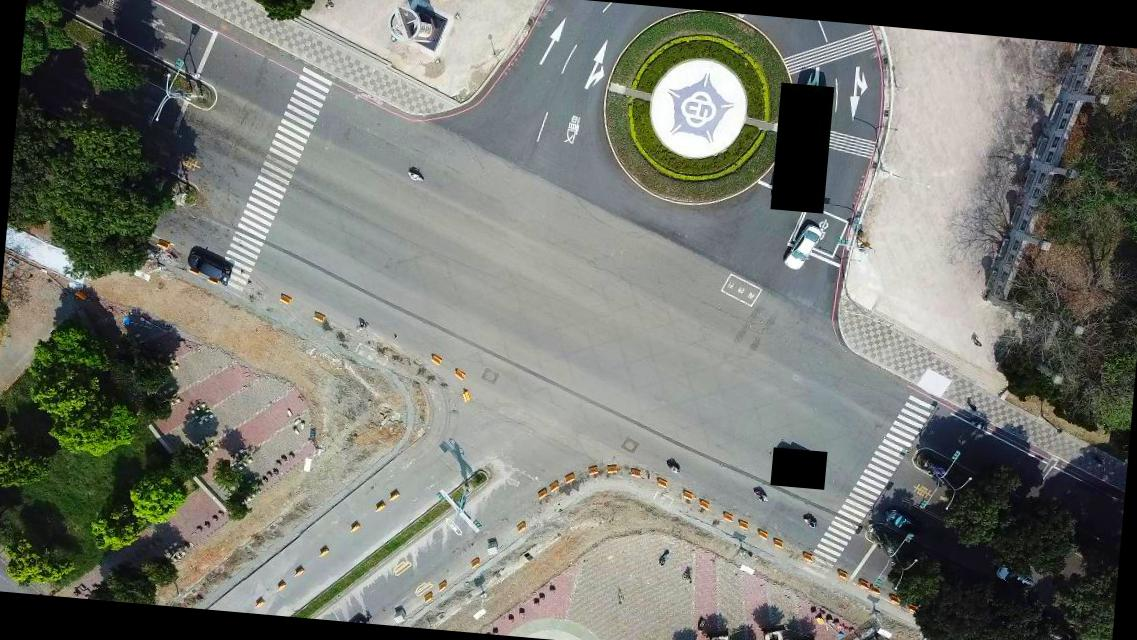vehicle: (781, 222, 822, 272), (184, 250, 234, 286), (992, 562, 1038, 593), (881, 507, 926, 537)
